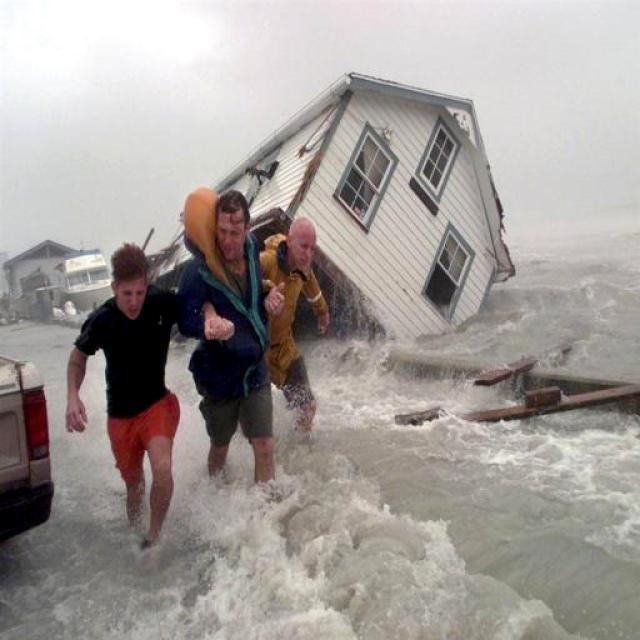civilian: (55, 223, 192, 562), (155, 180, 294, 508), (258, 198, 360, 462)
